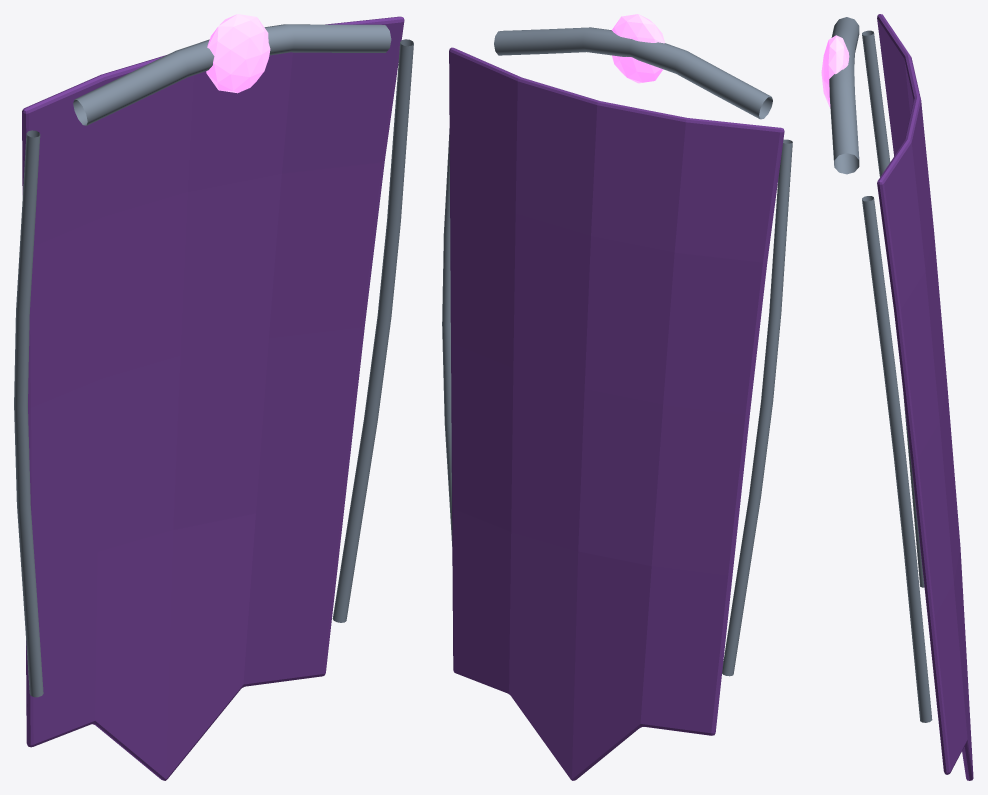
Rendered from cape_eclipse.glb.
3 views of the same model, side by side, from view 1: azimuth 30°, elevation 25°; view 2: azimuth 150°, elevation 25°; view 3: azimuth 270°, elevation 25° (orthographic). The views are drawn at different scales.
Visible parts, largest first — view 1: CapeCloth, HemR, HemL, TopClasp, CapeClasp; view 2: CapeCloth, TopClasp, HemL, HemR, CapeClasp; view 3: CapeCloth, HemR, TopClasp, HemL, CapeClasp.
Boxes of the visible parts, x1,y1,x2,y2 form: CapeCloth: (22, 16, 404, 780); HemR: (332, 39, 413, 622); HemL: (14, 130, 43, 697); TopClasp: (73, 24, 391, 125); CapeClasp: (206, 14, 270, 93); CapeCloth: (449, 47, 784, 780); TopClasp: (494, 27, 772, 119); HemL: (722, 139, 792, 676); HemR: (442, 128, 452, 546); CapeClasp: (611, 14, 664, 83); CapeCloth: (877, 14, 973, 780); HemR: (862, 196, 932, 722); TopClasp: (829, 17, 859, 174); HemL: (862, 30, 924, 587); CapeClasp: (821, 35, 849, 107).
Size of the model in its own units: 0.764 by 1.55 by 0.2876.
